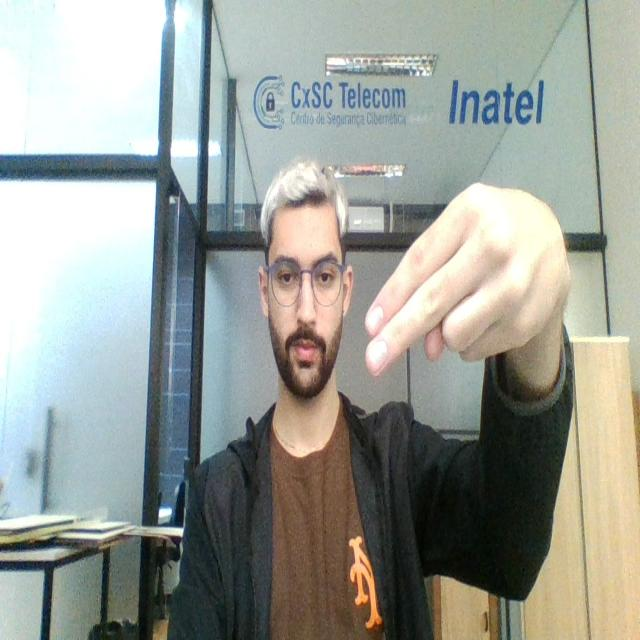N: (364, 171, 566, 389)
